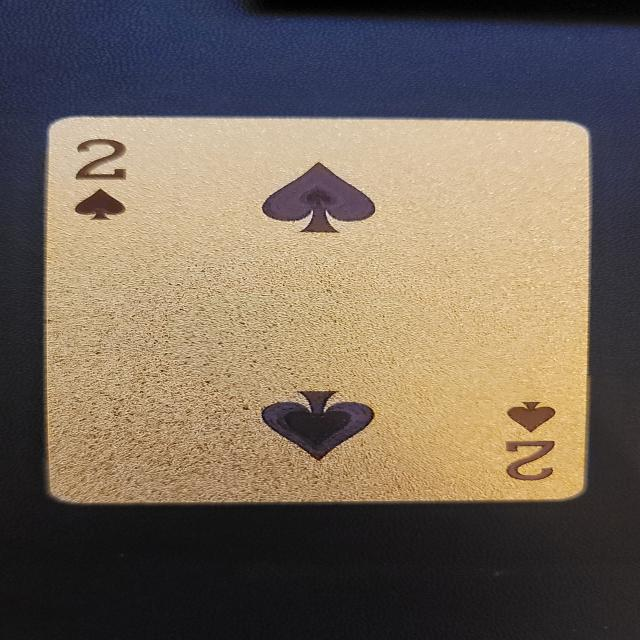2 of spades: (45, 116, 592, 507)
